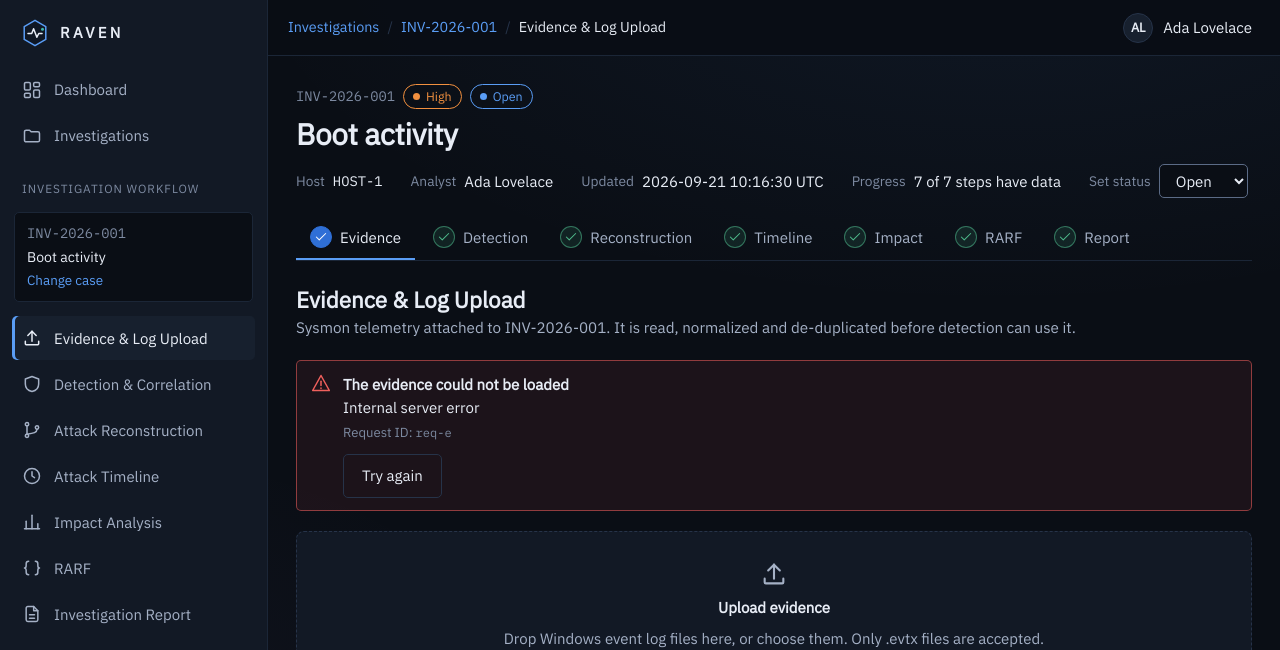
Test: Evidence: what is attached › shows the error of the evidence list with a retry
Check: the message shows "The evidence could not be loaded", box [343, 375, 569, 394]
Click the button "Try again".
click(392, 476)  # box [343, 454, 442, 498]
(page scrolled)
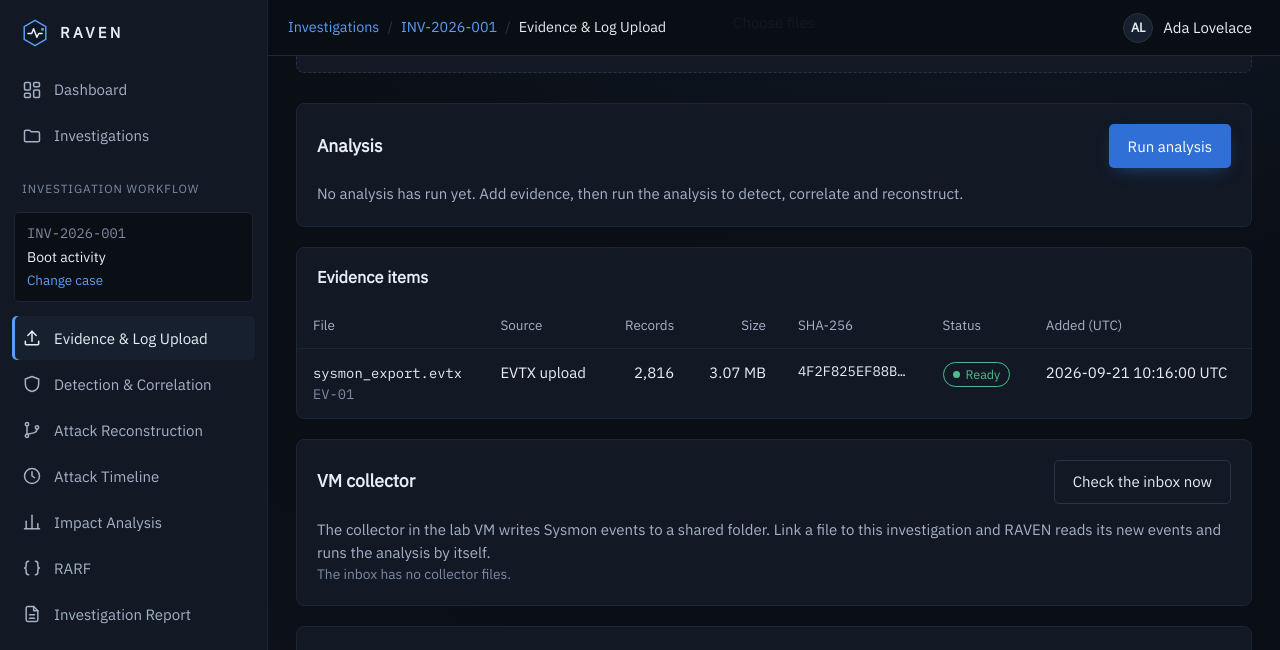
Check: the table named "Evidence items of this investigation" is shown, box [297, 303, 1251, 418]
